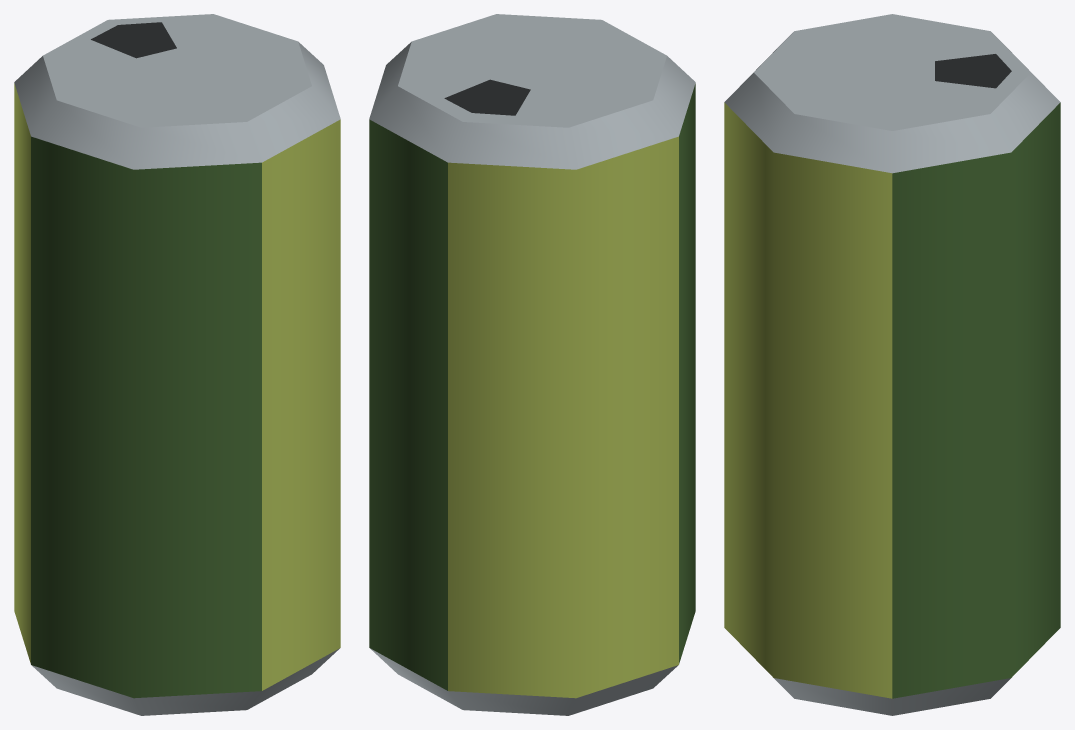
Rendered from clutter_soda2.fbx.
3 views of the same model, side by side, from view 1: azimuth 30°, elevation 25°; view 2: azimuth 150°, elevation 25°; view 3: azimuth 270°, elevation 25° (orthographic).
Visible parts, largest first — view 1: Cylinder04; view 2: Cylinder04; view 3: Cylinder04.
Boxes of the visible parts, bbox=[...] form: Cylinder04: bbox=[14, 14, 340, 715]; Cylinder04: bbox=[369, 14, 695, 715]; Cylinder04: bbox=[724, 14, 1060, 715].
Size of the model in its own units: 176 by 176 by 338.
